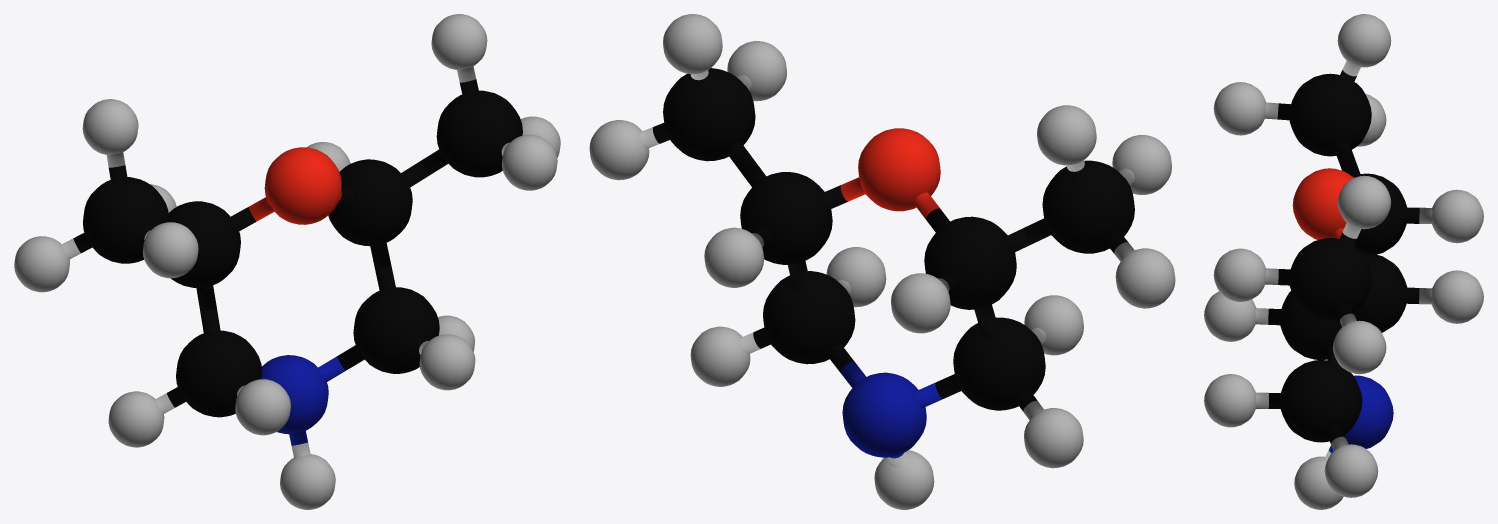
The model's file is asset.glb.
The picture shows the model from 3 angles, left to right: view 1: azimuth 30°, elevation 25°; view 2: azimuth 150°, elevation 25°; view 3: azimuth 270°, elevation 25°; orthographic projection. The views are drawn at different scales.
Visible parts, largest first — view 1: Shape_Sphere.005, Shape_Sphere.007, Shape_Sphere.003, Shape_Sphere.004, Shape_Sphere.006, Shape_Sphere, Shape_Sphere.002, Shape_Sphere.001, Shape_Sphere.010, Shape_Sphere.019, Shape_Sphere.013, Shape_Sphere.016 (+7 smaller); view 2: Shape_Sphere.004, Shape_Sphere.005, Shape_Sphere.007, Shape_Sphere.006, Shape_Sphere.003, Shape_Sphere.002, Shape_Sphere.001, Shape_Sphere, Shape_Sphere.008, Shape_Sphere.017, Shape_Sphere.015, Shape_Sphere.009 (+9 smaller); view 3: Shape_Sphere.006, Shape_Sphere.005, Shape_Sphere.007, Shape_Sphere, Shape_Sphere.003, Shape_Sphere.004, Shape_Sphere.012, Shape_Sphere.017, Shape_Sphere.018, Shape_Sphere.020, Shape_Sphere.016, Shape_Sphere.019 (+9 smaller).
Boxes of the visible parts, box(x1,y1,x2,y2) form: Shape_Sphere.005: box(353, 287, 439, 373); Shape_Sphere.007: box(436, 90, 522, 177); Shape_Sphere.003: box(328, 159, 412, 246); Shape_Sphere.004: box(176, 330, 262, 417); Shape_Sphere.006: box(83, 177, 168, 263); Shape_Sphere: box(264, 147, 341, 224); Shape_Sphere.002: box(168, 201, 240, 287); Shape_Sphere.001: box(261, 355, 328, 434); Shape_Sphere.010: box(235, 379, 290, 435); Shape_Sphere.019: box(501, 134, 557, 190); Shape_Sphere.013: box(419, 334, 475, 390); Shape_Sphere.016: box(142, 222, 198, 278); Shape_Sphere.004: box(953, 317, 1045, 410); Shape_Sphere.005: box(763, 271, 855, 364); Shape_Sphere.007: box(663, 68, 755, 161); Shape_Sphere.006: box(1042, 160, 1134, 253); Shape_Sphere.003: box(740, 172, 832, 264); Shape_Sphere.002: box(924, 216, 1016, 309); Shape_Sphere.001: box(842, 372, 926, 457); Shape_Sphere: box(858, 128, 940, 211); Shape_Sphere.008: box(890, 273, 950, 333); Shape_Sphere.017: box(1037, 105, 1096, 165); Shape_Sphere.015: box(1115, 248, 1175, 308); Shape_Sphere.009: box(704, 227, 763, 287); Shape_Sphere.006: box(1289, 73, 1371, 156); Shape_Sphere.005: box(1280, 360, 1362, 442); Shape_Sphere.007: box(1290, 238, 1371, 320); Shape_Sphere: box(1292, 168, 1353, 239); Shape_Sphere.003: box(1335, 253, 1407, 332); Shape_Sphere.004: box(1280, 291, 1341, 359); Shape_Sphere.012: box(1324, 444, 1378, 497); Shape_Sphere.017: box(1337, 14, 1391, 67); Shape_Sphere.018: box(1337, 175, 1391, 229); Shape_Sphere.020: box(1333, 320, 1386, 374); Shape_Sphere.016: box(1213, 82, 1266, 135); Shape_Sphere.019: box(1213, 248, 1266, 301).
Bounding box in the file's own units: 7.3 × 5.58 × 3.45.
